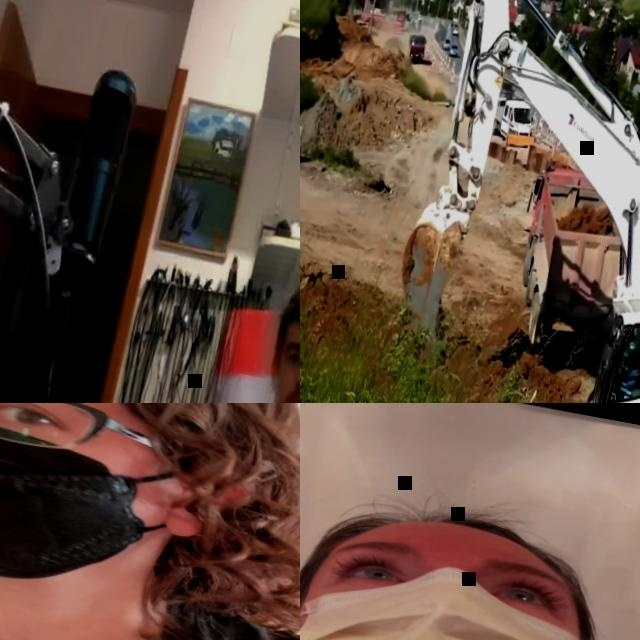Hardhat: (312, 487, 594, 591)
Mask: (0, 403, 204, 617), (300, 543, 615, 640)
NO-Hardhat: (282, 277, 300, 337)
NO-Safety Vest: (0, 525, 300, 640)
Person: (0, 403, 300, 640), (300, 447, 640, 640), (140, 257, 300, 403), (625, 331, 640, 389)
Safety Cone: (146, 291, 300, 403)
machinery: (362, 0, 640, 403), (502, 155, 639, 365), (405, 31, 427, 64)
vehicle: (499, 96, 535, 146), (491, 94, 507, 133), (448, 42, 460, 56), (441, 37, 451, 50), (452, 26, 459, 34)
